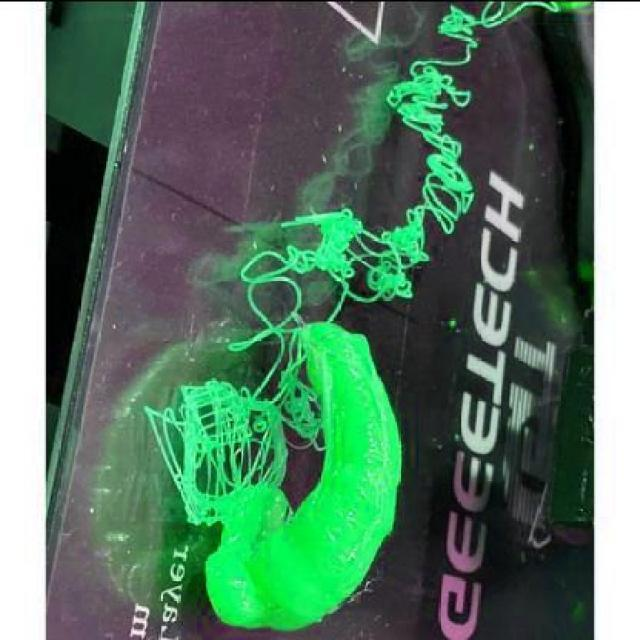spaghetti: (283, 2, 563, 302), (144, 246, 327, 531)
